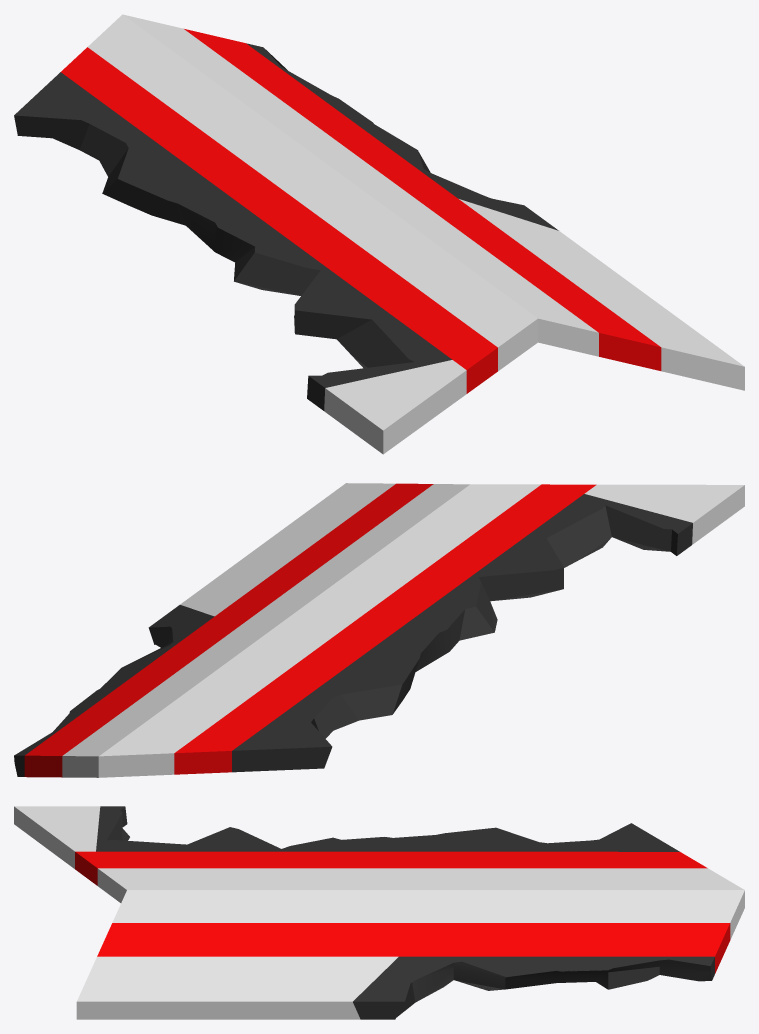
Rendered from Spart1.fbx.
The picture shows the model from 3 angles, top to bottom: view 1: azimuth 30°, elevation 25°; view 2: azimuth 150°, elevation 25°; view 3: azimuth 270°, elevation 25°; orthographic projection. The views are drawn at different scales.
Parts seen in each view (by area): view 1: Cube, Cube.004, Cube.003, Cube.005; view 2: Cube, Cube.004, Cube.003, Cube.005; view 3: Cube, Cube.004, Cube.005, Cube.003.
Boxes of the visible parts, bbox=[...] form: Cube: bbox=[88, 14, 744, 454]; Cube.004: bbox=[61, 29, 661, 393]; Cube.003: bbox=[14, 72, 452, 410]; Cube.005: bbox=[246, 43, 558, 230]; Cube: bbox=[62, 483, 744, 777]; Cube.004: bbox=[24, 483, 596, 777]; Cube.003: bbox=[232, 494, 692, 772]; Cube.005: bbox=[14, 605, 214, 776]; Cube: bbox=[14, 806, 744, 1019]; Cube.004: bbox=[75, 851, 730, 973]; Cube.005: bbox=[353, 956, 714, 1019]; Cube.003: bbox=[96, 806, 679, 851].
Size of the model in its own units: 112 by 23.82 by 237.
